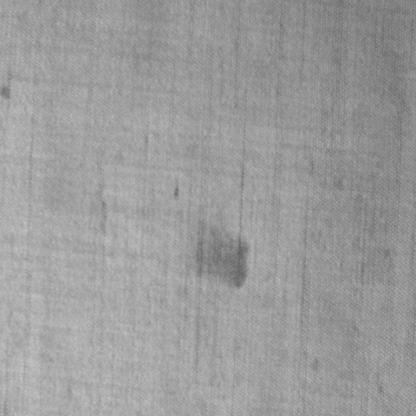oil spot: (193, 218, 251, 294)
